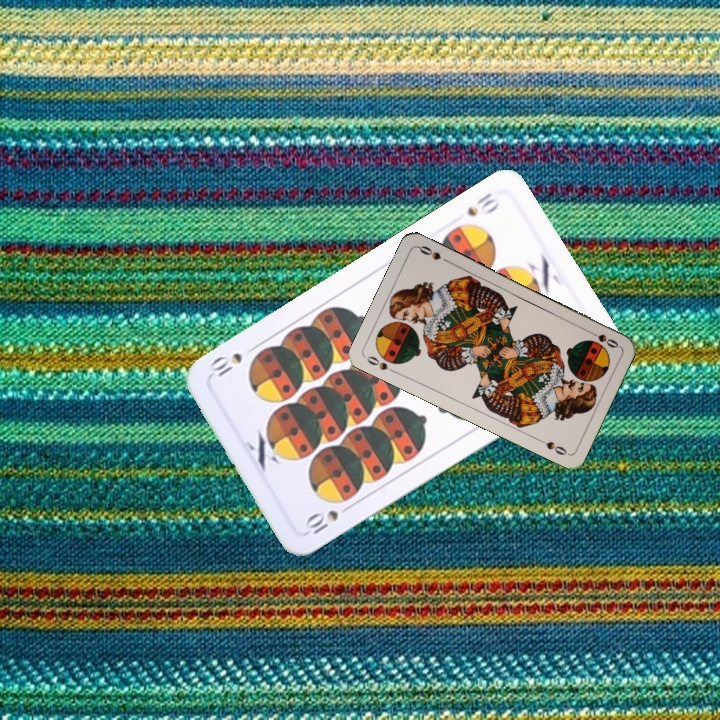S10: (300, 500, 356, 540), (463, 188, 503, 219)
SO: (583, 326, 622, 351), (363, 352, 400, 376)
